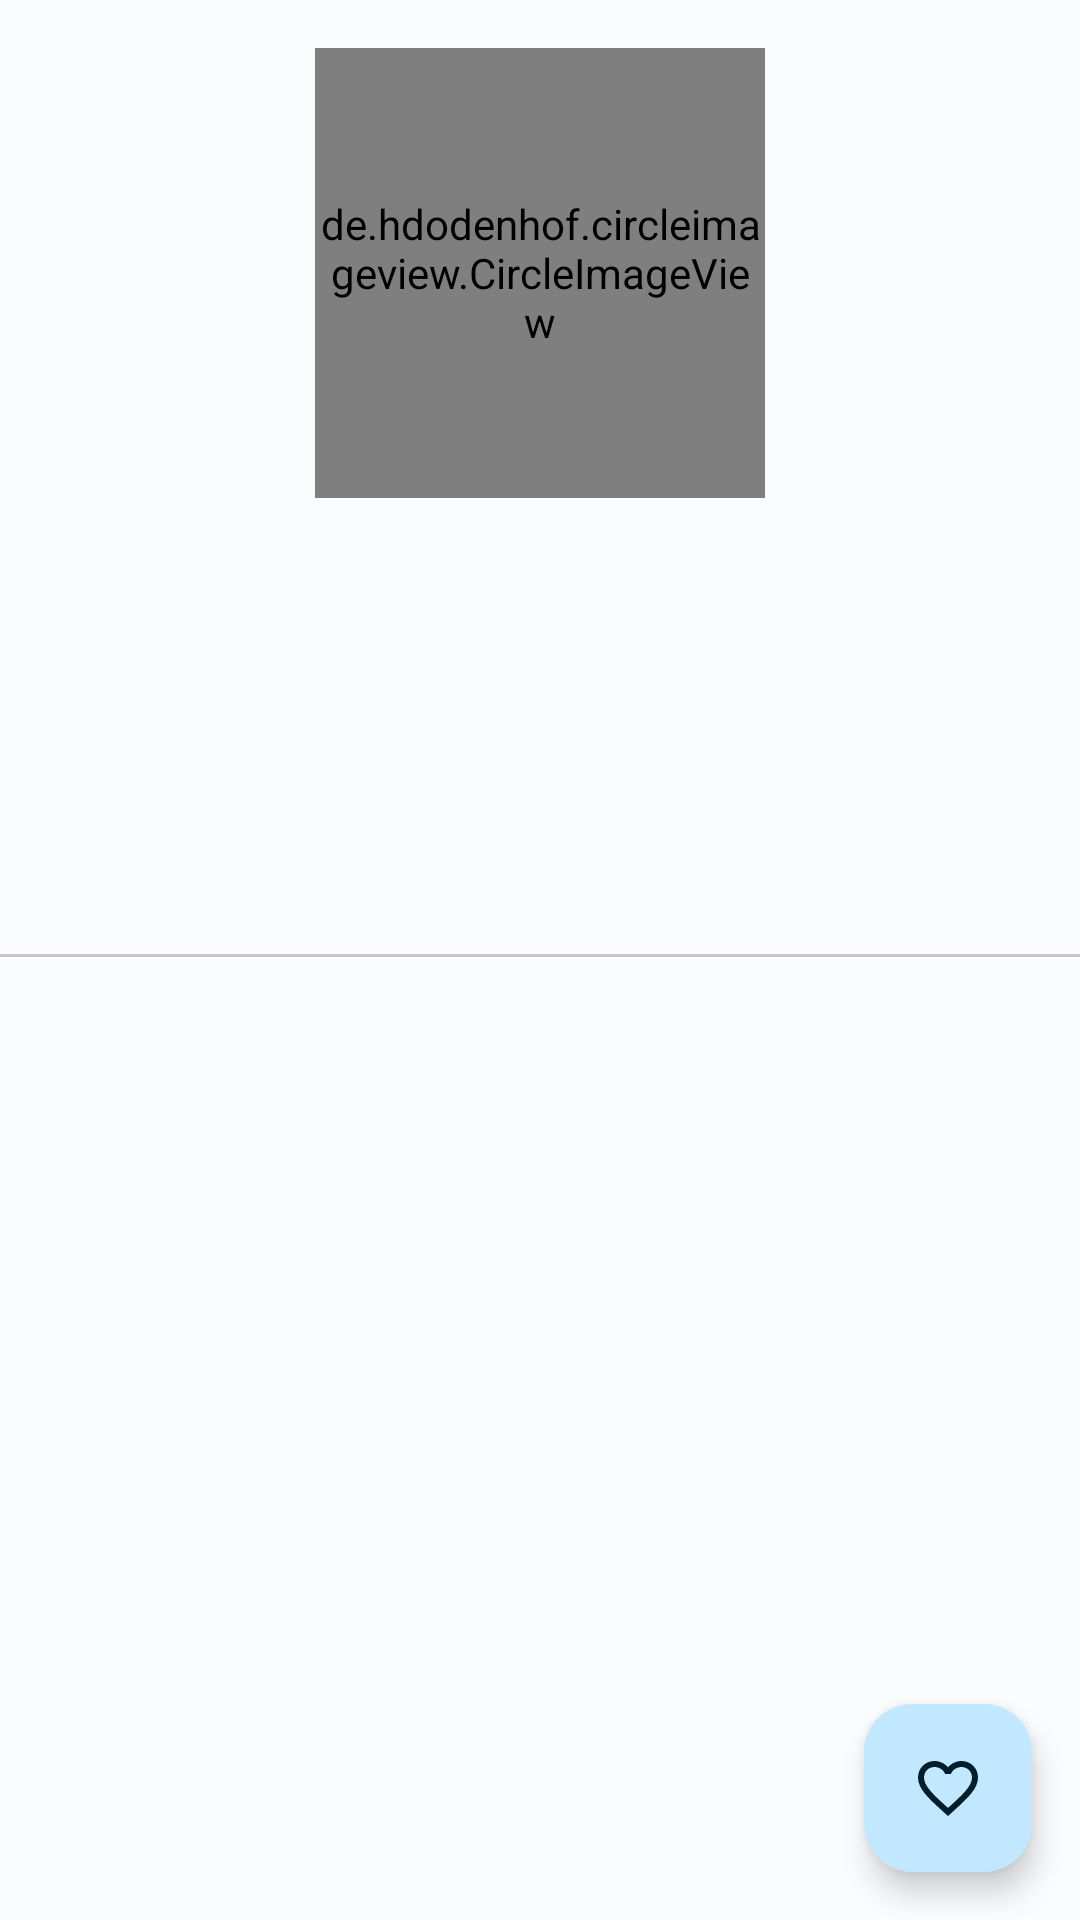

Icons on this 1080px×1920px Android screen, each with the point to tap as [x,y]:
add and delete to favorite: [948,1788]
